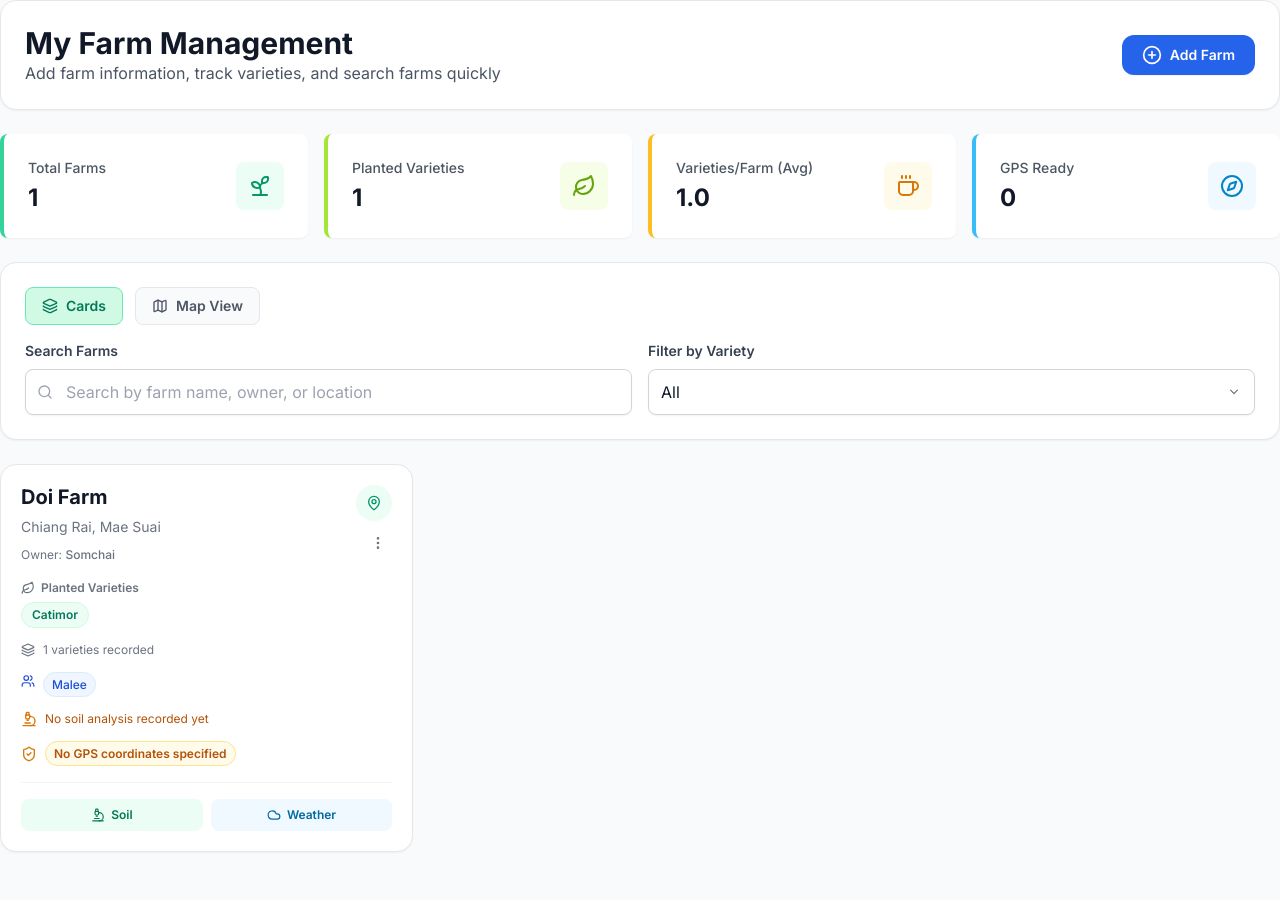
Test case: Farm Management actions follow the backend's farm rules › finds the farm's lots by farmId after its location was edited, and does not delete it
Click the button named "Options menu" at point(378, 543), box [364,529,392,557]
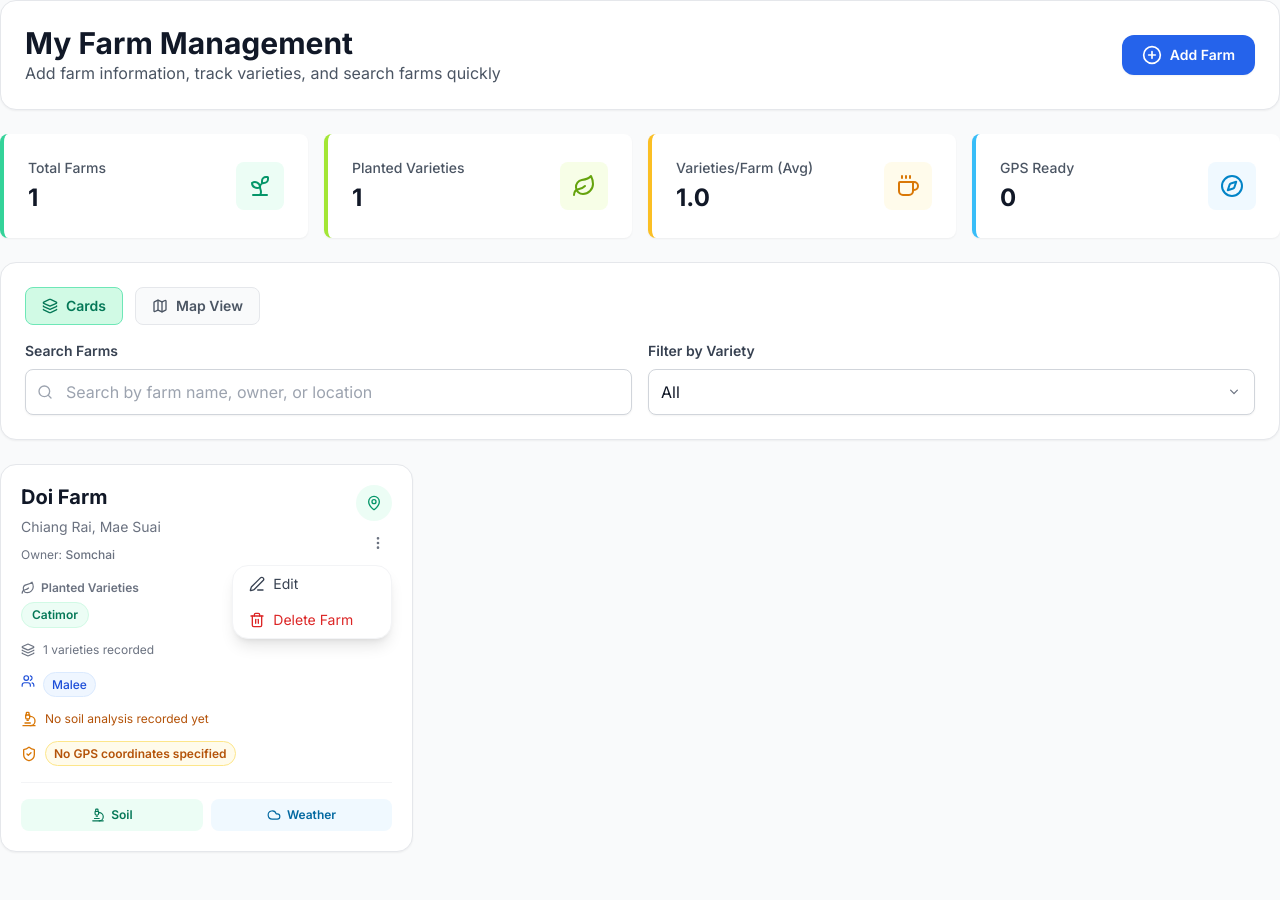
Click the menu item "Delete Farm" at point(312, 620), box [233,602,391,638]
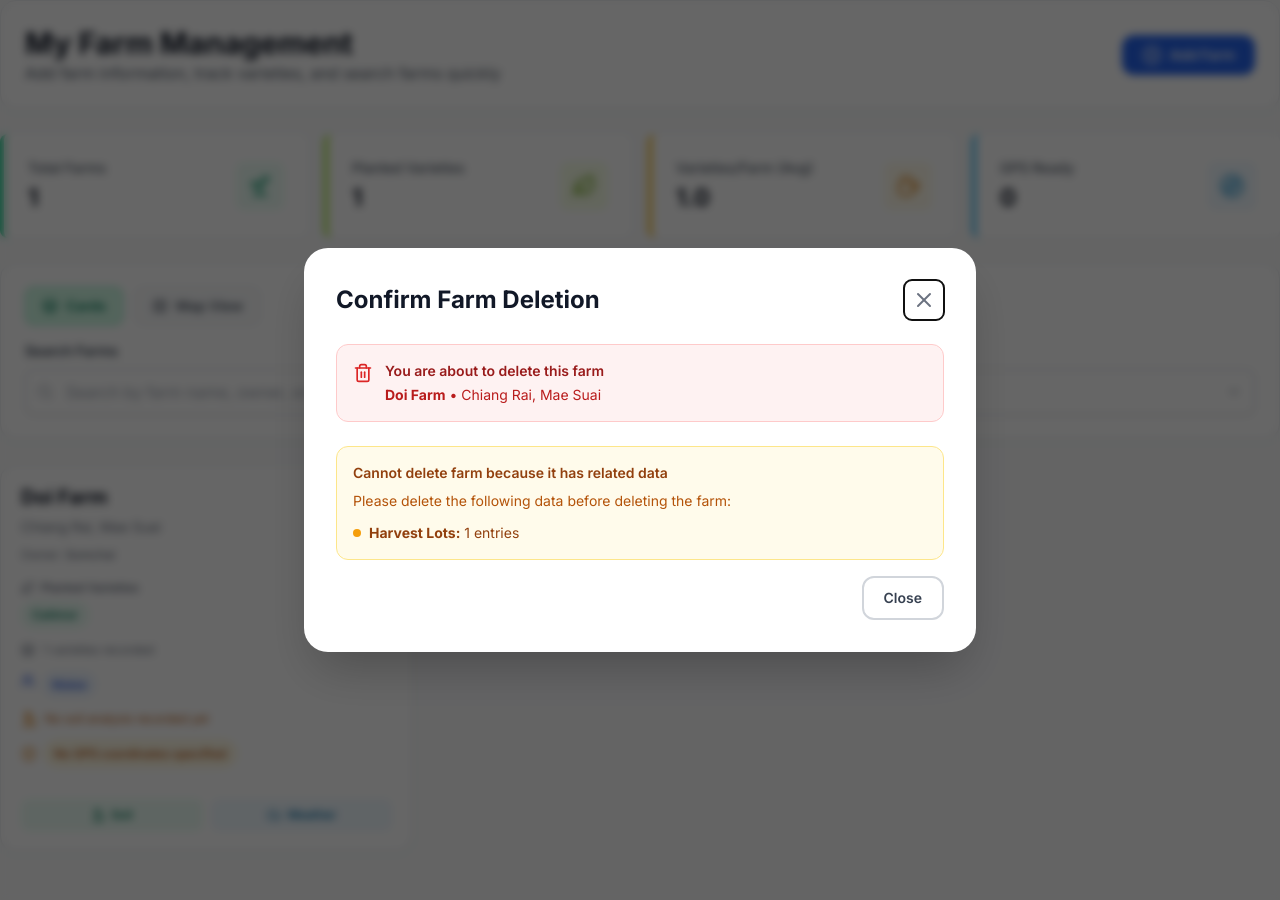
Check: the text "Cannot delete farm because it has related data" is shown, box [353,464,668,481]
Check: the element showing "Harvest Lots: 1 entries" is shown, box [369,523,519,543]
